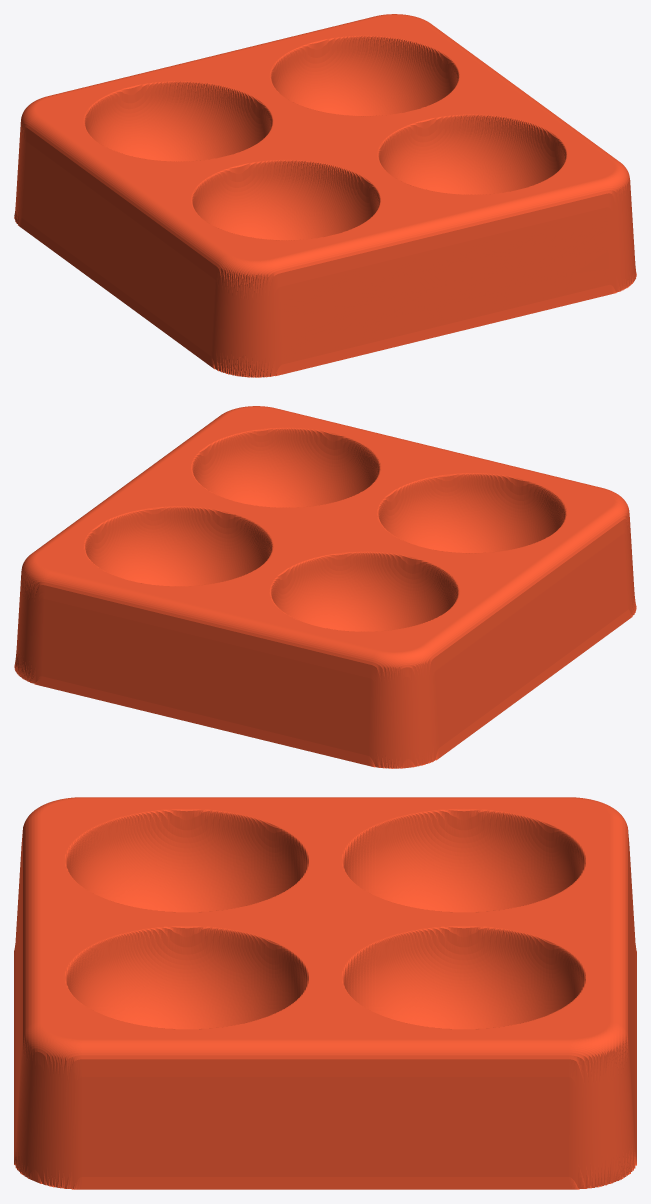
Rendered from mold.glb.
3 renders of one model, top to bottom at view 1: azimuth 30°, elevation 25°; view 2: azimuth 150°, elevation 25°; view 3: azimuth 270°, elevation 25°, orthographic. The views are drawn at different scales.
Parts seen in each view (by area): view 1: geometry_0; view 2: geometry_0; view 3: geometry_0.
Part boxes in pixels (x1,y1,x2,y2): geometry_0: (14,14,636,377); geometry_0: (14,406,636,768); geometry_0: (14,797,636,1189).
Size of the model in its own units: 0.0828 by 0.0204 by 0.0828.
